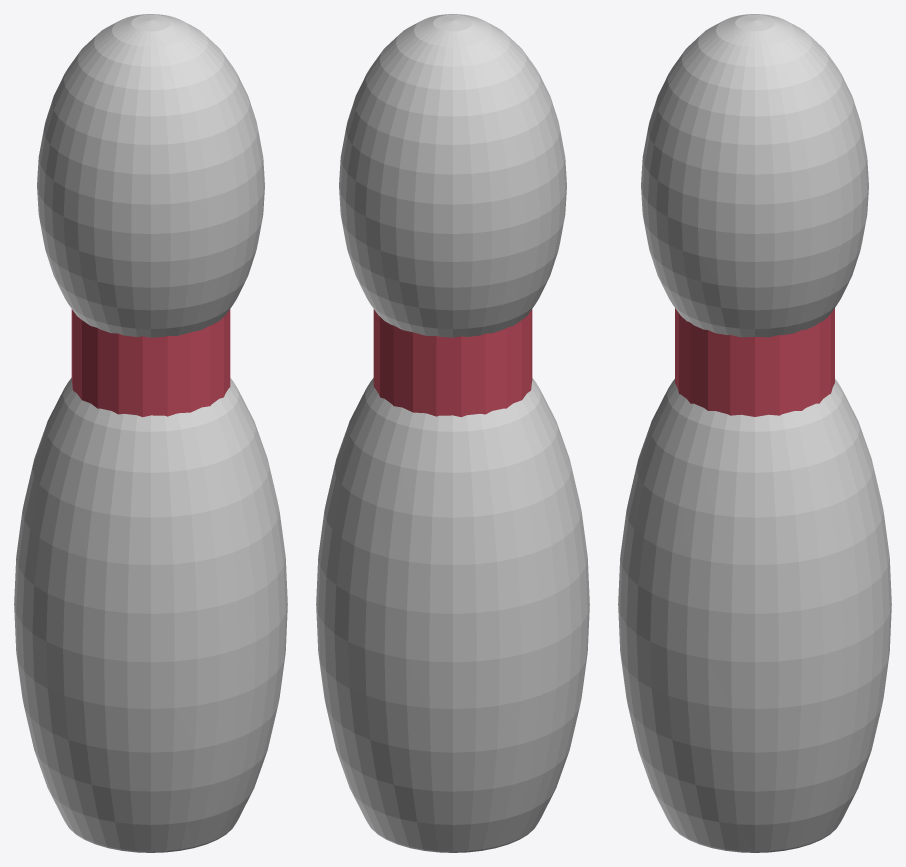
File: BowlingPin.glb
3 views of the same model, side by side, from view 1: azimuth 30°, elevation 25°; view 2: azimuth 150°, elevation 25°; view 3: azimuth 270°, elevation 25° (orthographic).
Visible parts, largest first — view 1: Mesh_Mesh_head_geo.001_lambert2SG.001; view 2: Mesh_Mesh_head_geo.001_lambert2SG.001; view 3: Mesh_Mesh_head_geo.001_lambert2SG.001.
Part boxes in pixels (<box>): Mesh_Mesh_head_geo.001_lambert2SG.001: <box>14,14,287,852</box>; Mesh_Mesh_head_geo.001_lambert2SG.001: <box>316,14,589,852</box>; Mesh_Mesh_head_geo.001_lambert2SG.001: <box>618,14,891,852</box>.
Bounding box in the file's own units: 24 × 77 × 24.
